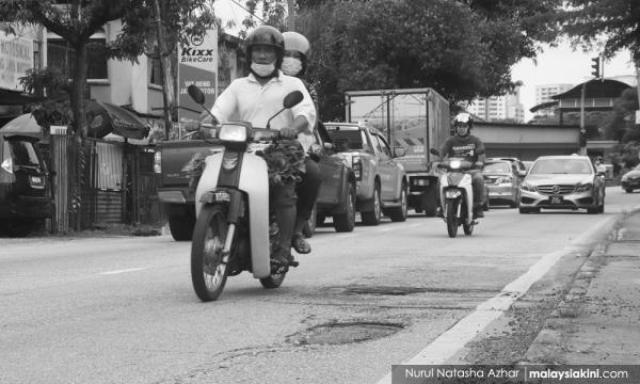Pothole: (282, 322, 403, 346), (342, 290, 488, 296)
